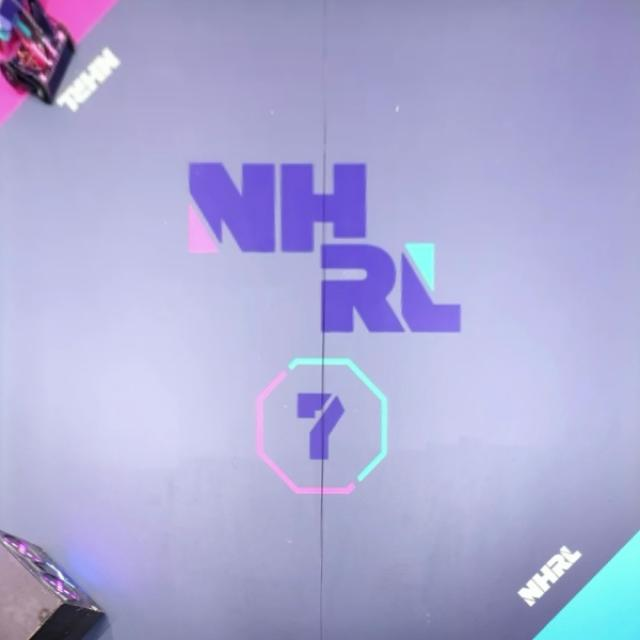housebot: (0, 528, 107, 640)
robot: (0, 0, 77, 102), (0, 0, 49, 64)
